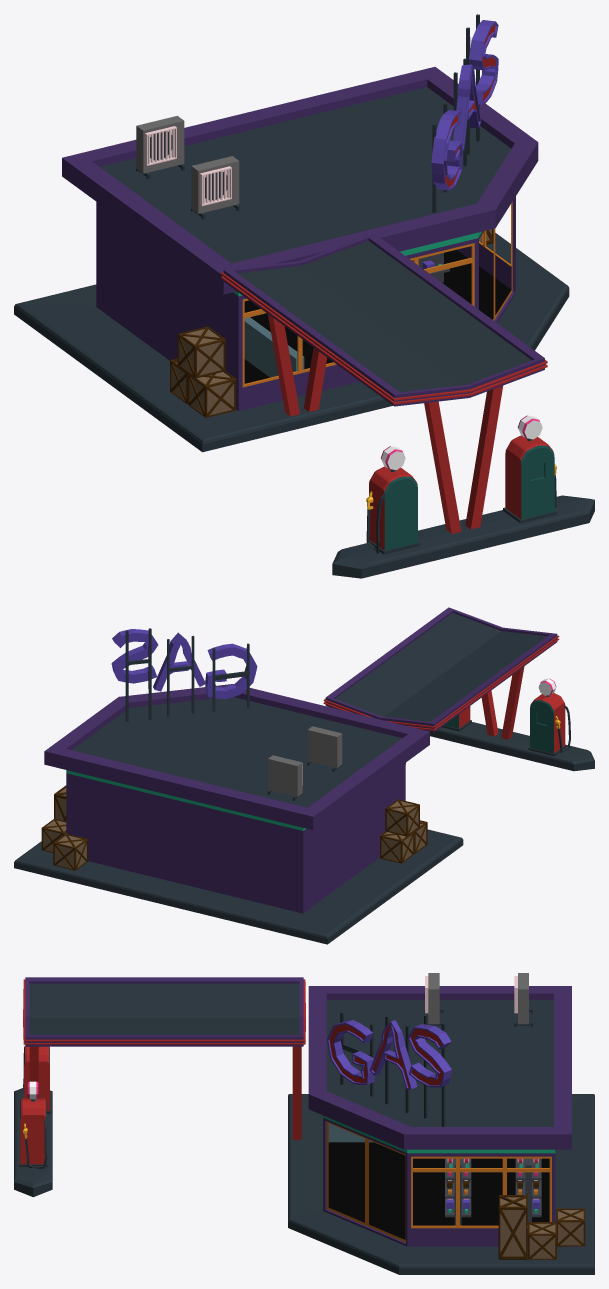
The model's file is GasStation.fbx.
3 views of the same model, one above another, from view 1: azimuth 30°, elevation 25°; view 2: azimuth 150°, elevation 25°; view 3: azimuth 270°, elevation 25° (orthographic). The views are drawn at different scales.
Parts seen in each view (by area): view 1: It's so gas; view 2: It's so gas; view 3: It's so gas.
Part boxes in pixels (x1,y1,x2,y2): It's so gas: (14, 14, 594, 578); It's so gas: (14, 607, 594, 944); It's so gas: (14, 973, 594, 1274).
Size of the model in its own units: 2246 by 1295 by 3005.
